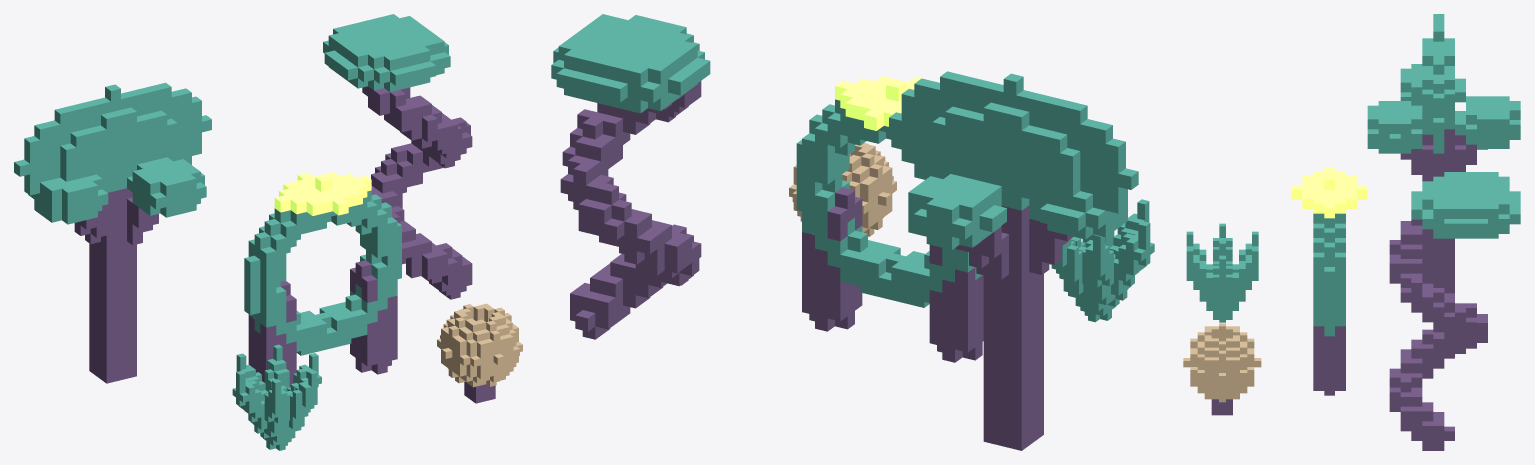
The model's file is alien-biosphere-strange-canopy-20a0fc62__22837.glb.
3 views of the same model, side by side, from view 1: azimuth 30°, elevation 25°; view 2: azimuth 150°, elevation 25°; view 3: azimuth 270°, elevation 25° (orthographic). The views are drawn at different scales.
Parts seen in each view (by area): view 1: 000-fan-tree/1, 002-crown-gateway/1, 001-corkscrew-tree/0, 000-fan-tree/0, 001-corkscrew-tree/1, 003-spear-rosette/0, 004-spore-puff/1, 002-crown-gateway/0, 002-crown-gateway/2, 004-spore-puff/0; view 2: 000-fan-tree/1, 001-corkscrew-tree/0, 000-fan-tree/0, 002-crown-gateway/1, 001-corkscrew-tree/1, 002-crown-gateway/0, 003-spear-rosette/0, 004-spore-puff/1, 002-crown-gateway/2; view 3: 000-fan-tree/1, 001-corkscrew-tree/0, 001-corkscrew-tree/1, 004-spore-puff/1, 003-spear-rosette/0, 000-fan-tree/0, 002-crown-gateway/1, 002-crown-gateway/2, 002-crown-gateway/0, 004-spore-puff/0.
Part boxes in pixels (box(x1,y1,x2,y2)): 000-fan-tree/1: box(14, 82, 211, 224); 002-crown-gateway/1: box(244, 190, 401, 355); 001-corkscrew-tree/0: box(362, 86, 472, 299); 000-fan-tree/0: box(74, 188, 158, 383); 001-corkscrew-tree/1: box(323, 14, 450, 91); 003-spear-rosette/0: box(232, 344, 321, 450); 004-spore-puff/1: box(437, 303, 522, 387); 002-crown-gateway/0: box(248, 260, 397, 387); 002-crown-gateway/2: box(274, 172, 371, 215); 004-spore-puff/0: box(464, 382, 495, 403); 000-fan-tree/1: box(889, 71, 1138, 249); 001-corkscrew-tree/0: box(560, 81, 701, 339); 000-fan-tree/0: box(956, 205, 1073, 450); 002-crown-gateway/1: box(796, 99, 982, 307); 001-corkscrew-tree/1: box(551, 14, 710, 113); 002-crown-gateway/0: box(802, 187, 983, 362); 003-spear-rosette/0: box(1049, 199, 1154, 322); 004-spore-puff/1: box(789, 143, 896, 236); 002-crown-gateway/2: box(835, 76, 921, 130); 000-fan-tree/1: box(1367, 14, 1520, 153); 001-corkscrew-tree/0: box(1389, 219, 1487, 450); 001-corkscrew-tree/1: box(1411, 172, 1520, 238); 004-spore-puff/1: box(1183, 323, 1261, 402); 003-spear-rosette/0: box(1186, 223, 1258, 322); 000-fan-tree/0: box(1400, 129, 1487, 293); 002-crown-gateway/1: box(1313, 213, 1345, 336); 002-crown-gateway/2: box(1291, 167, 1367, 218); 002-crown-gateway/0: box(1313, 326, 1345, 395); 004-spore-puff/0: box(1211, 399, 1232, 415).
Bounding box in the file's own units: 8.8 × 5.4 × 6.18.
